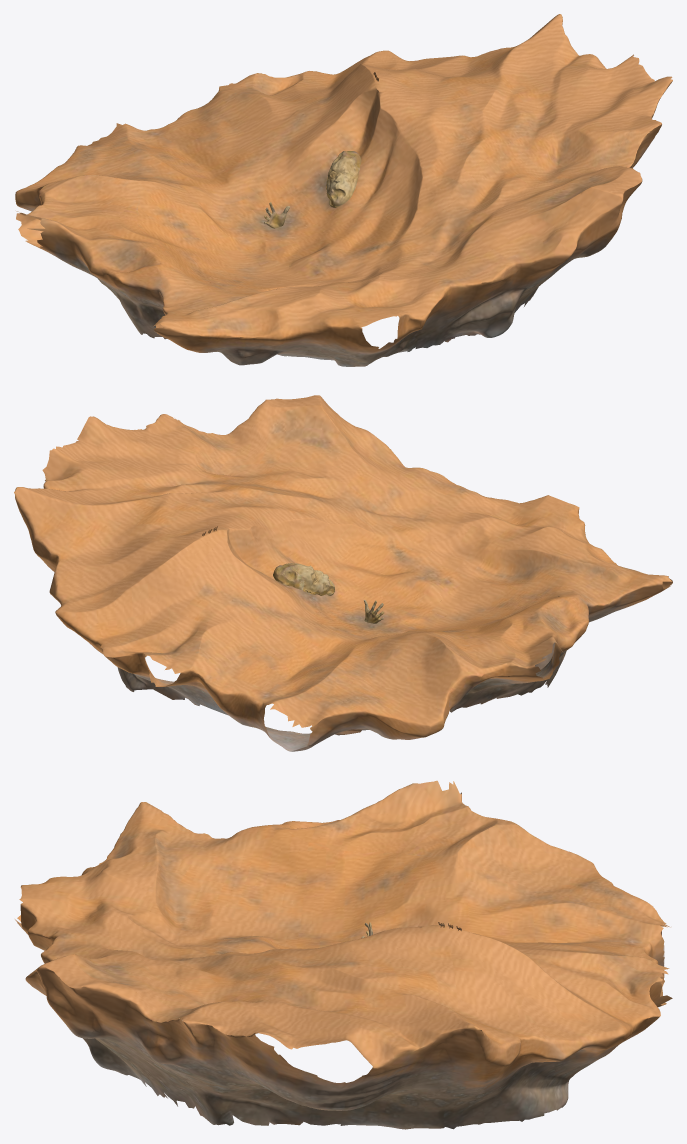
The model's file is 04_sculptjanuary18_-_desert_clean.glb.
3 views of the same model, one above another, from view 1: azimuth 30°, elevation 25°; view 2: azimuth 150°, elevation 25°; view 3: azimuth 270°, elevation 25° (orthographic). The views are drawn at different scales.
Parts seen in each view (by area): view 1: g (×2); view 2: g (×2); view 3: g.
Part boxes in pixels (x1=…): g (×2): x1=15, y1=14, x2=672, y2=366; g (×2): x1=14, y1=395, x2=672, y2=751; g: x1=15, y1=780, x2=672, y2=1129.
Size of the model in its own units: 1.93 by 0.4812 by 1.68.
1 material, 1 textured.
